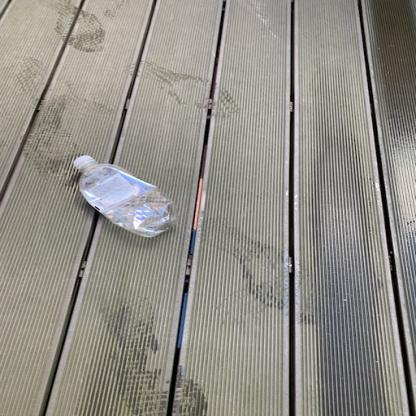trash: (71, 157, 180, 240)
